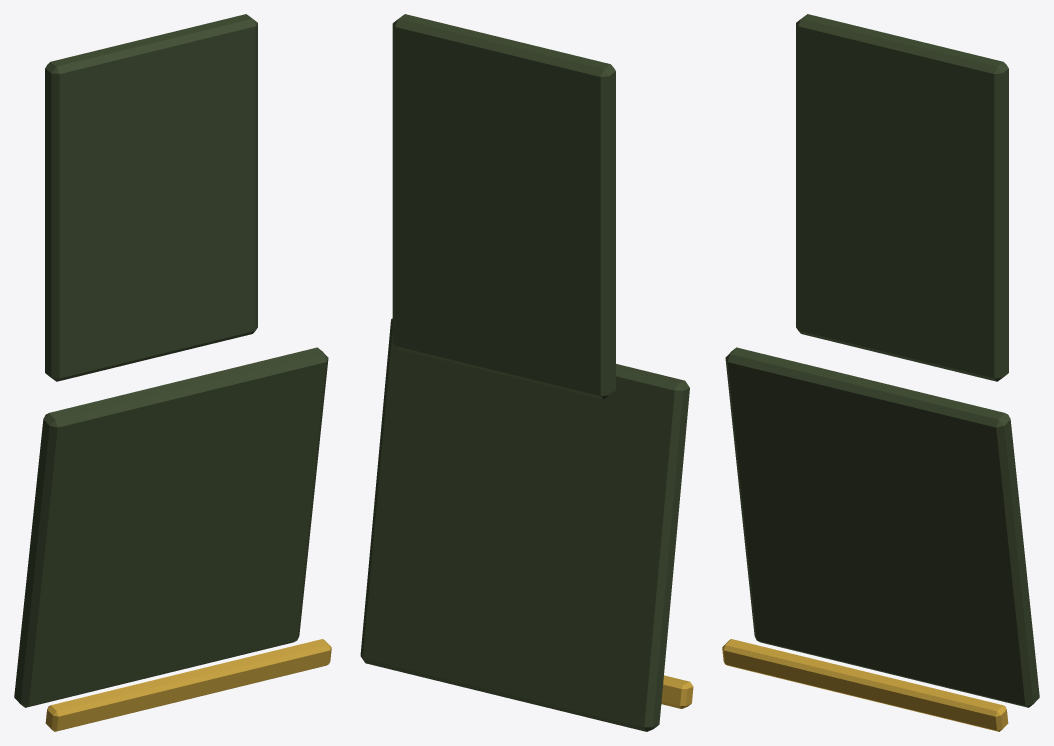
The model's file is coat_flap.glb.
The picture shows the model from 3 angles, left to right: view 1: azimuth 30°, elevation 25°; view 2: azimuth 150°, elevation 25°; view 3: azimuth 330°, elevation 25°; orthographic projection. The views are drawn at different scales.
Visible parts, largest first — view 1: part.coat_flap; view 2: part.coat_flap; view 3: part.coat_flap.
Boxes of the visible parts, box(x1,y1,x2,y2) form: part.coat_flap: box(14, 14, 331, 731); part.coat_flap: box(360, 14, 693, 731); part.coat_flap: box(722, 14, 1039, 731).
Size of the model in its own units: 0.324 by 0.6994 by 0.0988.
